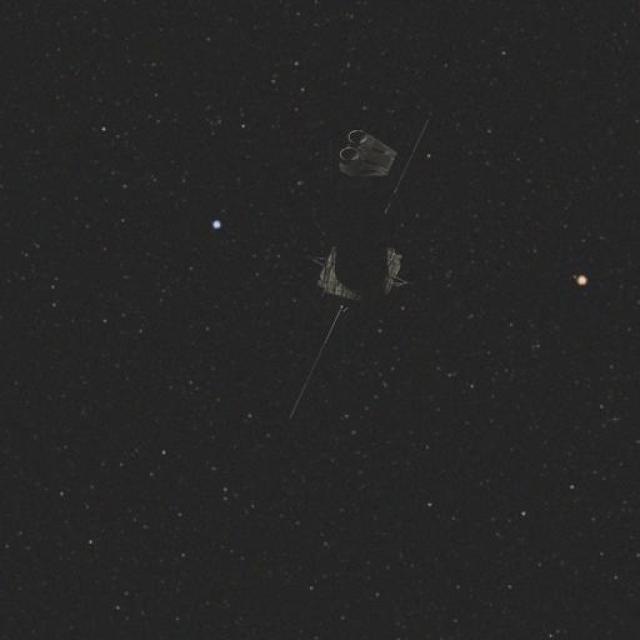xmm_newton: (262, 91, 564, 416)
